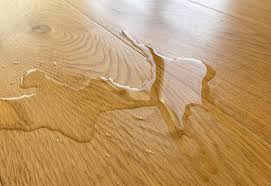Wet-floor: (2, 31, 241, 153), (0, 73, 119, 140), (131, 38, 203, 128)
